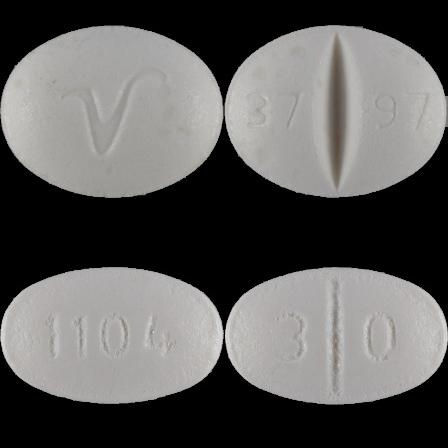76237-300: (0, 0, 224, 224)
